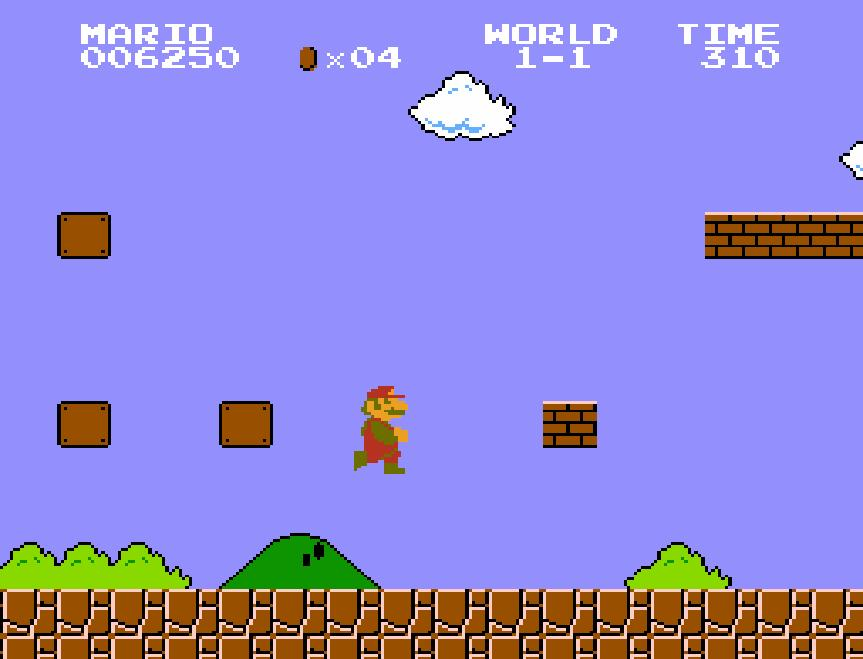big_mario: (352, 378, 410, 476)
